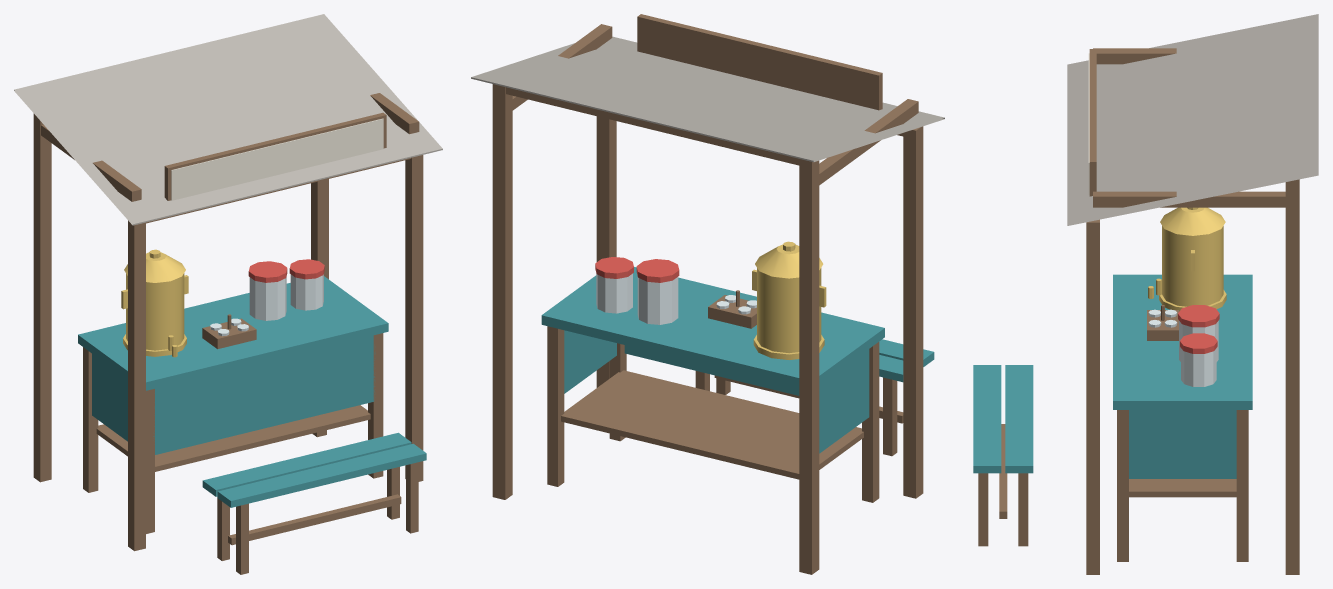
Rendered from irani_chai_stall.glb.
3 views of the same model, side by side, from view 1: azimuth 30°, elevation 25°; view 2: azimuth 150°, elevation 25°; view 3: azimuth 270°, elevation 25° (orthographic). The views are drawn at different scales.
Parts seen in each view (by area): view 1: Irani_Chai_Stall; view 2: Irani_Chai_Stall; view 3: Irani_Chai_Stall.
Part boxes in pixels (x1,y1,x2,y2): Irani_Chai_Stall: [14, 14, 442, 574]; Irani_Chai_Stall: [471, 14, 944, 574]; Irani_Chai_Stall: [973, 14, 1318, 574].
Bounding box in the file's own units: 1.9 × 2.25 × 1.73.
